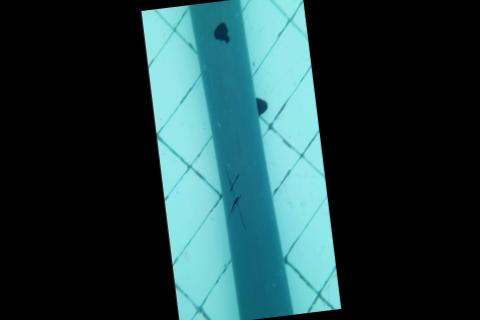kebocoran: (211, 21, 231, 47)
keretakan: (221, 169, 246, 231)
